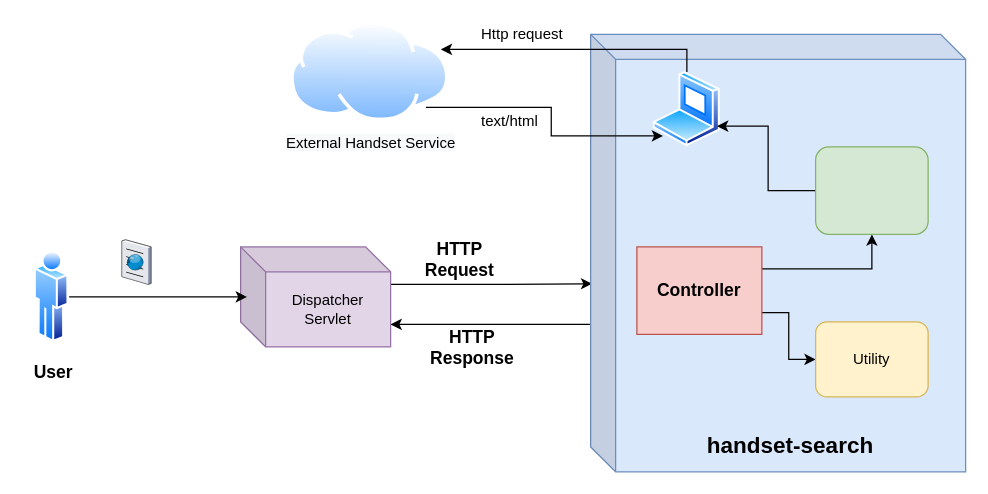
This 988x494 diagram has some shape labels left out. Each missing label, with the box of its shape:
Feign Client: (652, 71, 720, 146)
Service: (814, 146, 928, 234)
